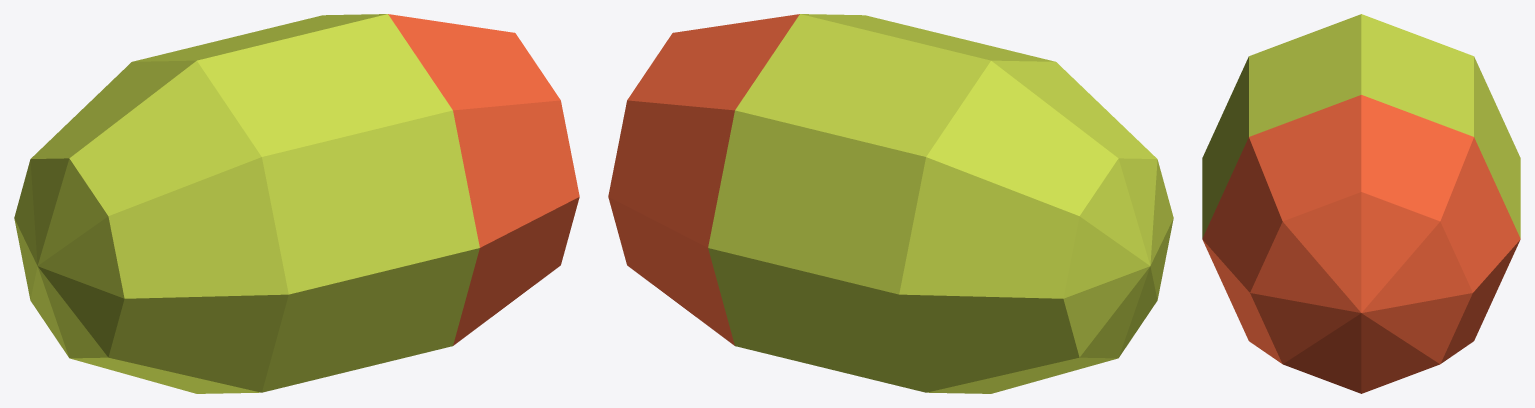
File: Papaya.fbx
3 renders of one model, left to right at view 1: azimuth 30°, elevation 25°; view 2: azimuth 150°, elevation 25°; view 3: azimuth 270°, elevation 25°, orthographic. The views are drawn at different scales.
Visible parts, largest first — view 1: Papaya; view 2: Papaya; view 3: Papaya.
Boxes of the visible parts, x1,y1,x2,y2 form: Papaya: (14,14,579,393); Papaya: (608,14,1173,393); Papaya: (1202,14,1520,393).
Bounding box in the file's own units: 1.65 × 1 × 1.
1 material, 1 textured.
